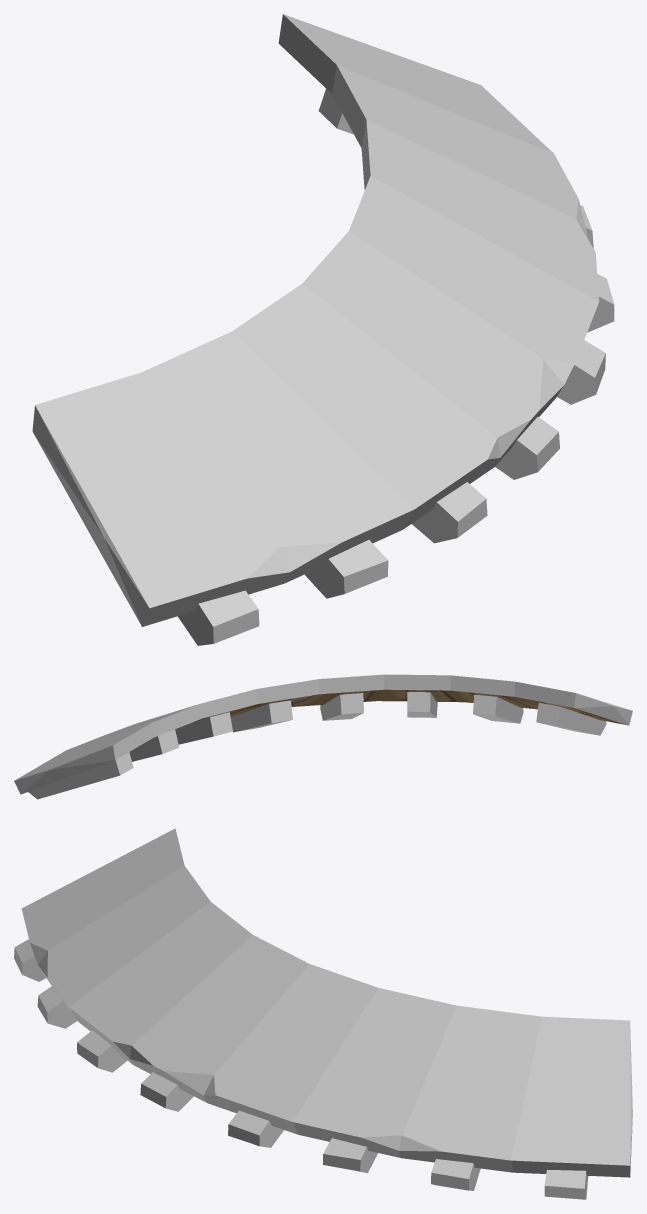
Rendered from SM_Bld_House_Roof_Edge_Curved_01.fbx.
3 views of the same model, one above another, from view 1: azimuth 30°, elevation 25°; view 2: azimuth 150°, elevation 25°; view 3: azimuth 270°, elevation 25° (orthographic). The views are drawn at different scales.
Visible parts, largest first — view 1: SM_Bld_House_Roof_Edge_Curved_01; view 2: SM_Bld_House_Roof_Edge_Curved_01; view 3: SM_Bld_House_Roof_Edge_Curved_01.
Boxes of the visible parts, x1,y1,x2,y2 form: SM_Bld_House_Roof_Edge_Curved_01: (32, 14, 614, 645); SM_Bld_House_Roof_Edge_Curved_01: (14, 674, 632, 799); SM_Bld_House_Roof_Edge_Curved_01: (14, 828, 632, 1199).
Size of the model in its own units: 390 by 82.68 by 390.
